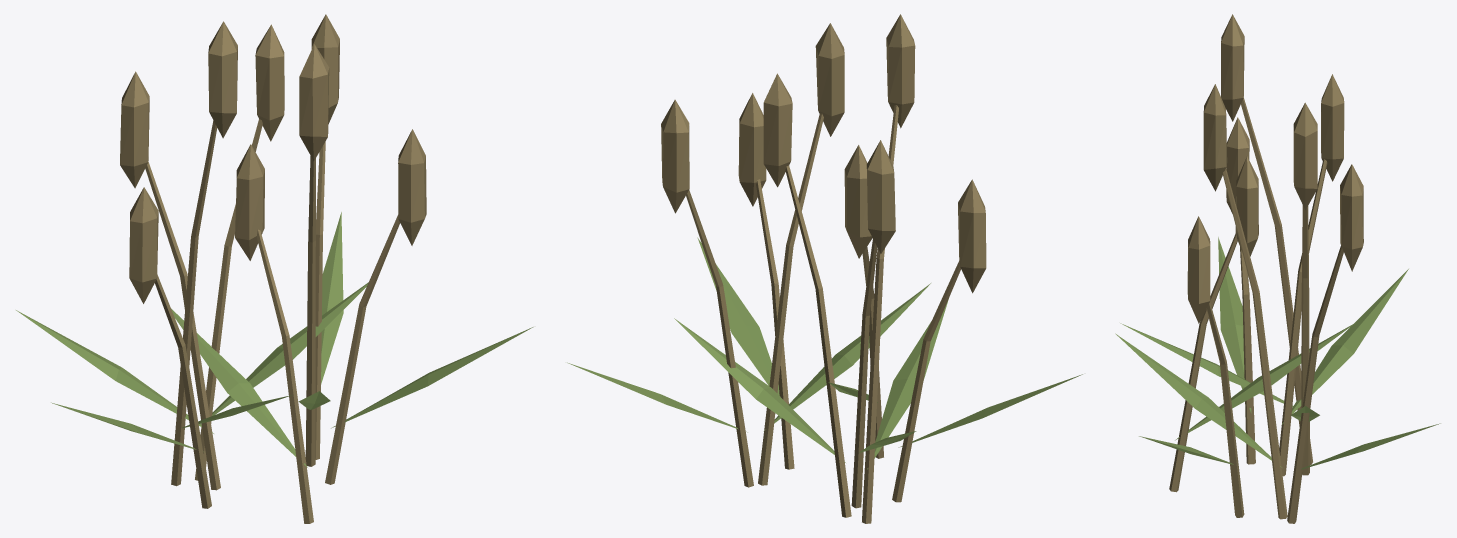
Rendered from Plant_Common_DryReedTuft_001.glb.
The picture shows the model from 3 angles, left to right: view 1: azimuth 30°, elevation 25°; view 2: azimuth 150°, elevation 25°; view 3: azimuth 270°, elevation 25°; orthographic projection. The views are drawn at different scales.
Visible parts, largest first — view 1: Plant_Common_DryReedTuft_001; view 2: Plant_Common_DryReedTuft_001; view 3: Plant_Common_DryReedTuft_001.
Boxes of the visible parts, x1,y1,x2,y2 form: Plant_Common_DryReedTuft_001: (16, 14, 533, 523); Plant_Common_DryReedTuft_001: (567, 14, 1082, 523); Plant_Common_DryReedTuft_001: (1115, 14, 1440, 523).
Bounding box in the file's own units: 1.74 × 1.84 × 1.21.
